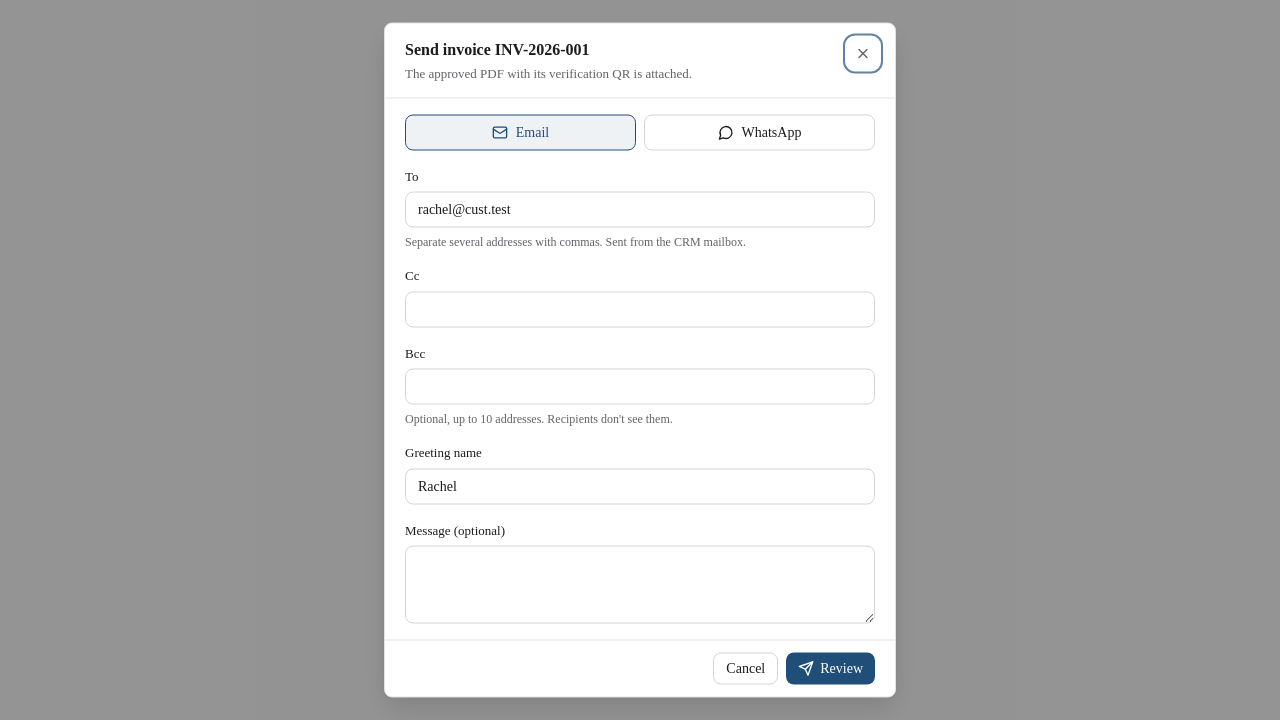
Test: sending a document › shows the server's reason for other failures
Click the button "Review": coordinates (831, 668) x1=786 y1=652 x2=875 y2=684
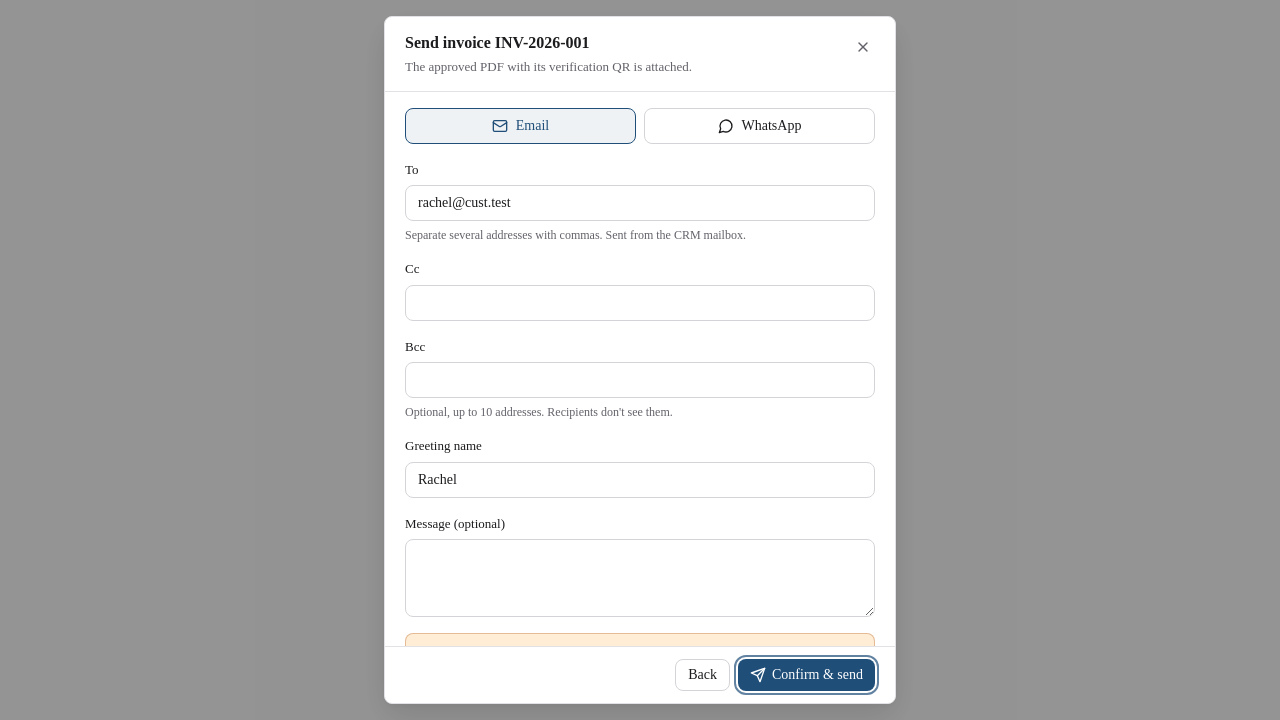
Click the button "Confirm & send": coordinates (806, 675) x1=738 y1=659 x2=875 y2=691
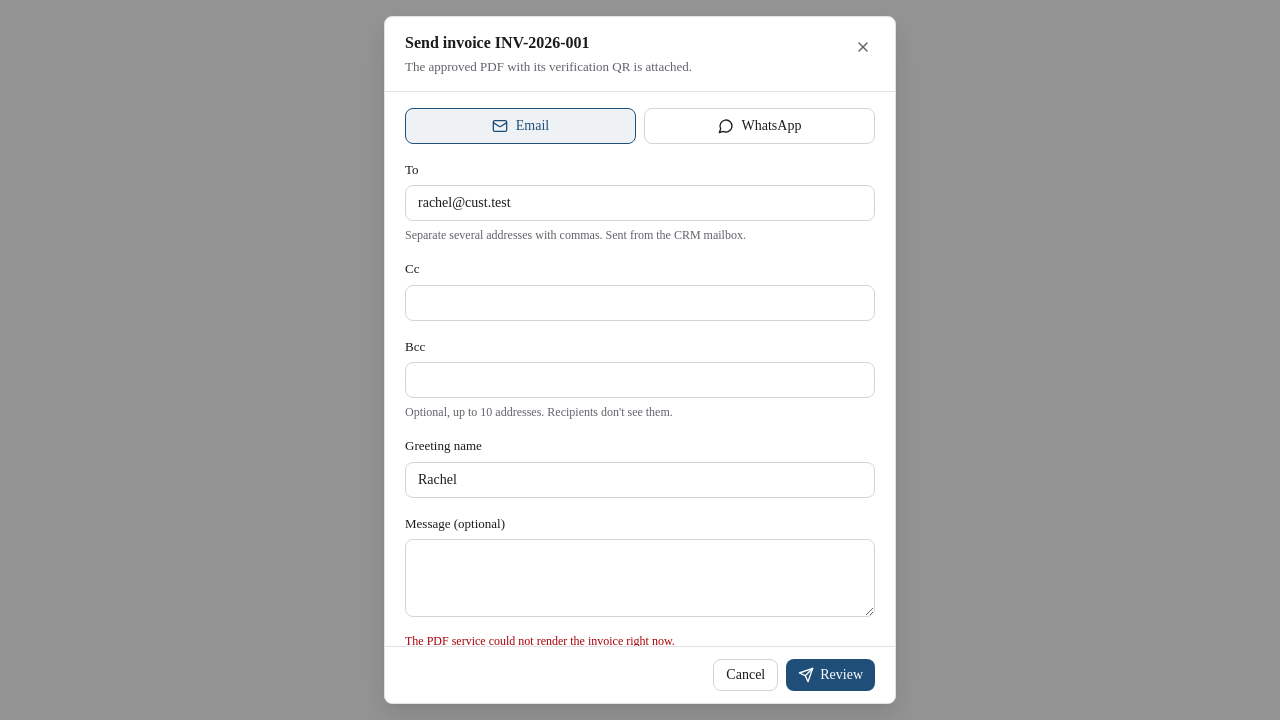
Expected: the text "The PDF service could not render the invoice right now." is shown, x1=405 y1=634 x2=675 y2=646
